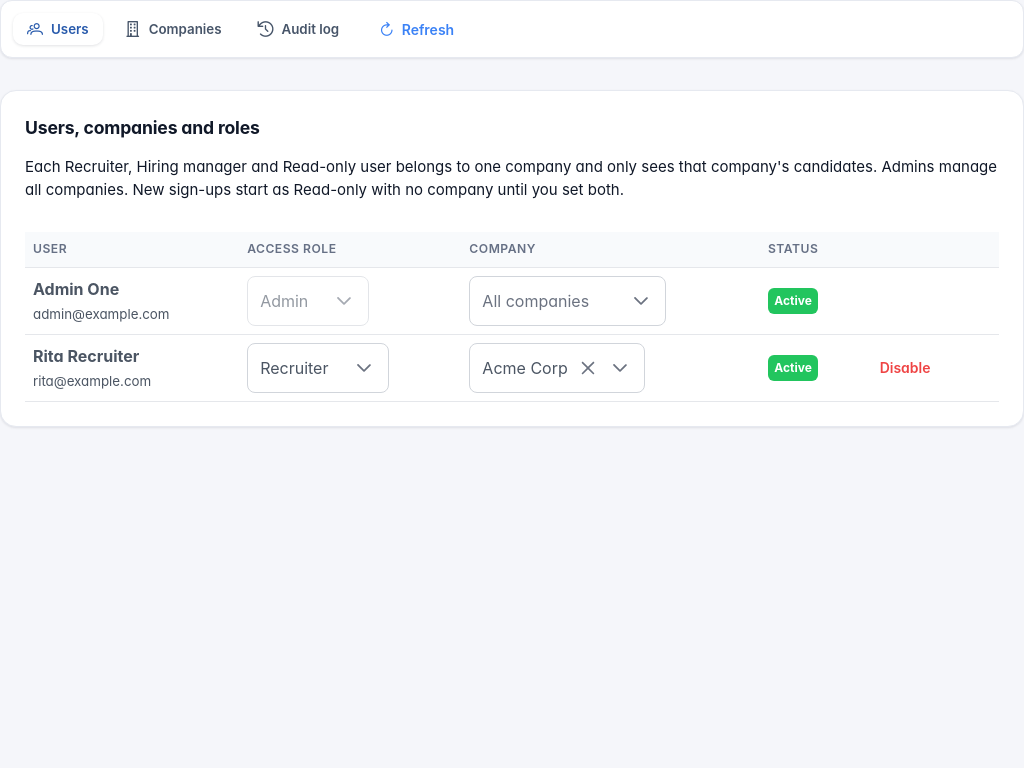
Test case: AdminModule › warns about candidates without a company and can move them into one
This screenshot has width=1024, height=768.
Click the tab with class "admin-tab" showing "Companies".
click(173, 29)  # box [111,13,236,45]
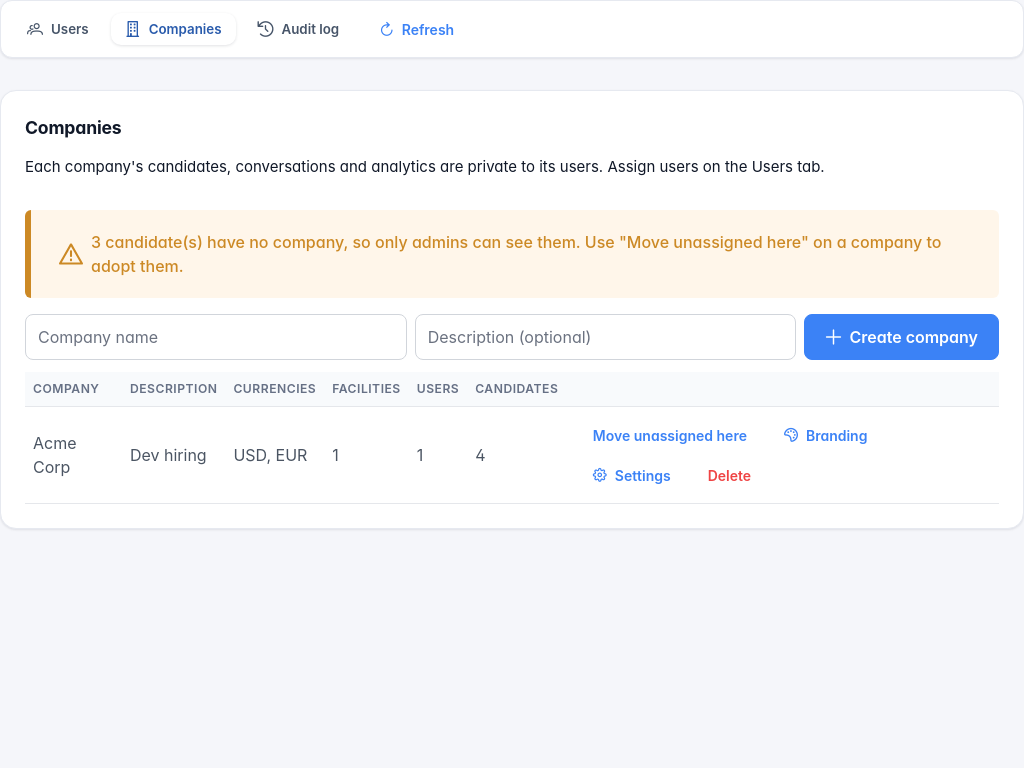
Now the text "3 candidate(s) have no company" is shown, box [91,232,942,276]
Click the button "Move unassigned here".
click(670, 435)  # box [574,415,765,455]
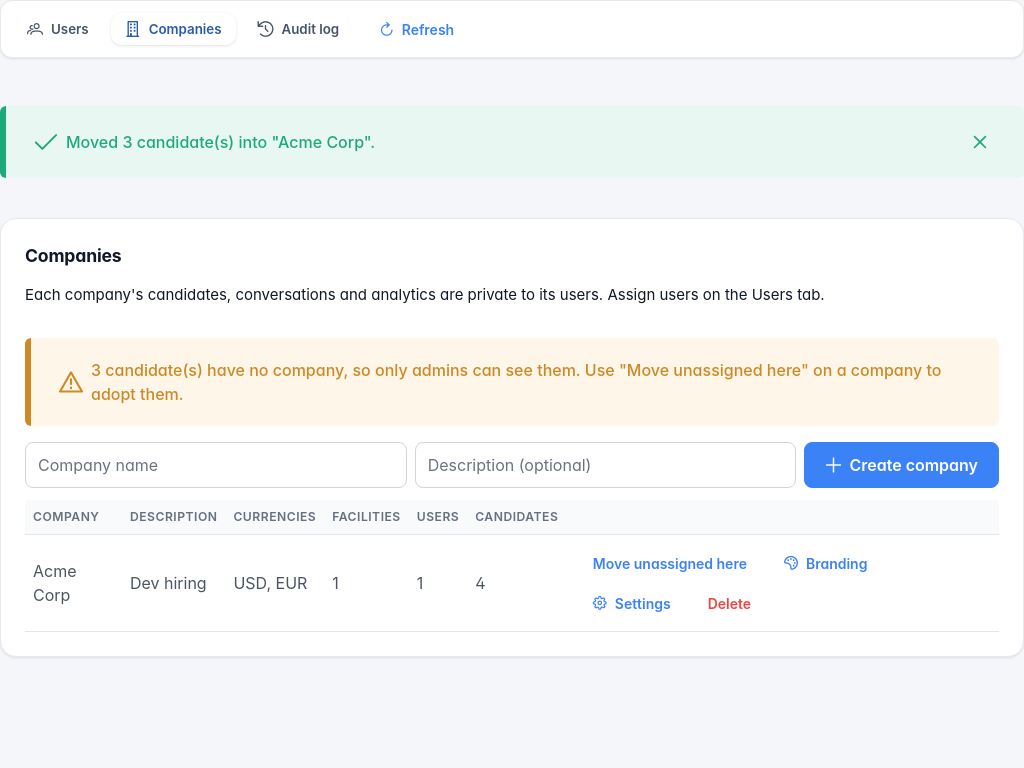
Now the text "Moved 3 candidate(s)" is shown, box [66,132,375,152]
